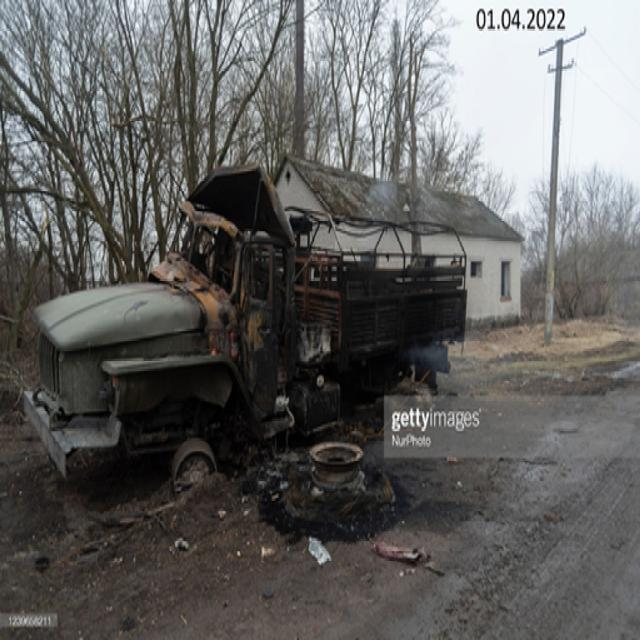TRUCK: (19, 162, 470, 529)
